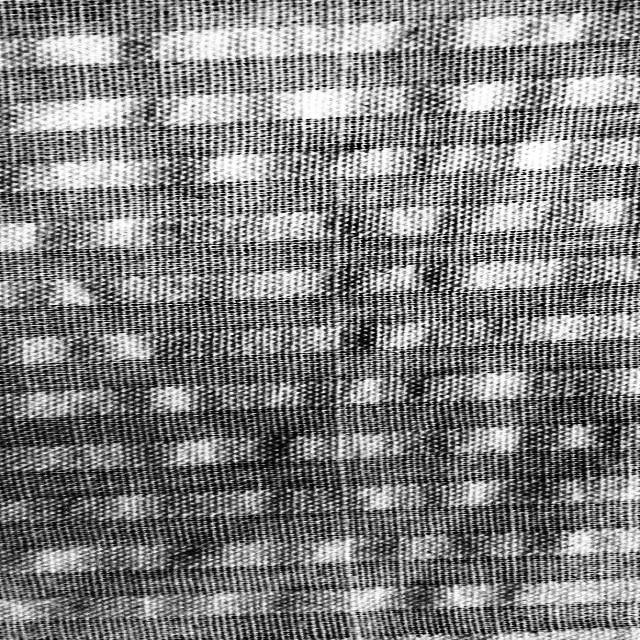Foreign_yarn: (318, 0, 364, 640)
